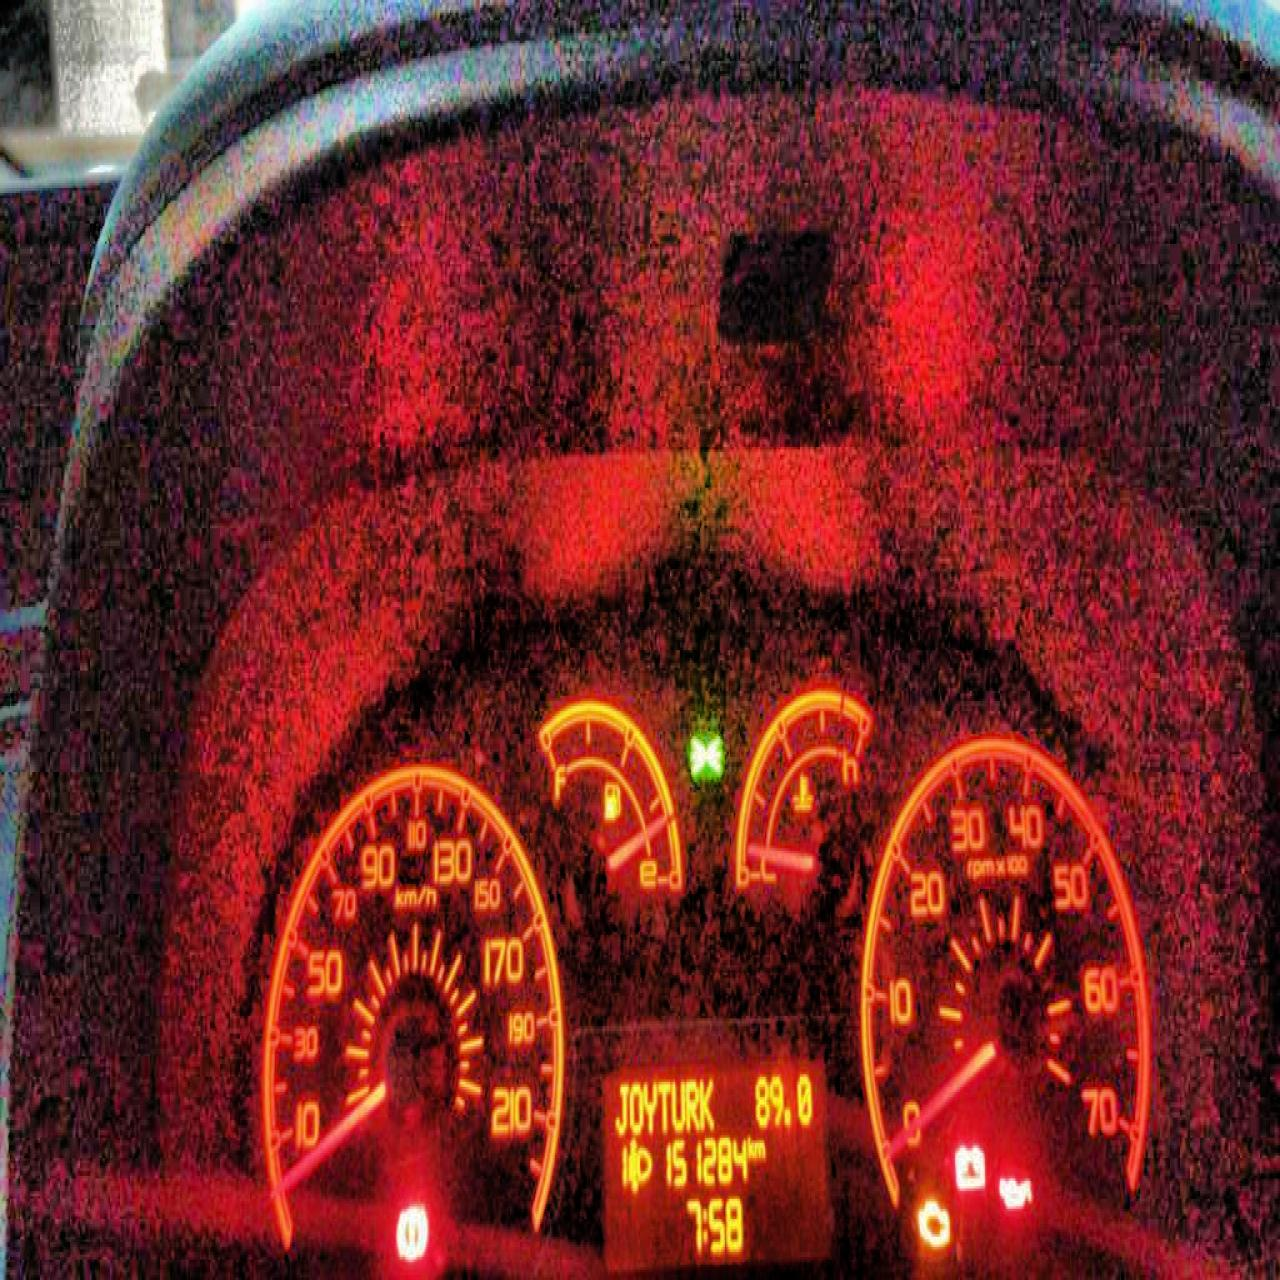-: (784, 1104, 791, 1128)
0: (795, 1067, 812, 1125)
1: (661, 1138, 670, 1186), (693, 1132, 701, 1184), (619, 1141, 626, 1186)
2: (701, 1136, 715, 1184)
4: (731, 1136, 747, 1180)
5: (708, 1191, 723, 1252), (672, 1135, 688, 1186)
7: (682, 1193, 701, 1252)
8: (723, 1193, 742, 1252), (753, 1071, 768, 1128), (715, 1132, 731, 1184)
9: (768, 1071, 783, 1125)
X: (699, 1074, 715, 1130), (613, 1080, 628, 1138), (628, 1077, 642, 1136), (683, 1077, 699, 1130), (642, 1080, 656, 1136), (656, 1077, 670, 1133), (670, 1077, 685, 1130), (701, 1204, 708, 1245), (753, 1138, 765, 1158), (747, 1130, 753, 1160)
odometer: (595, 1047, 835, 1278)
